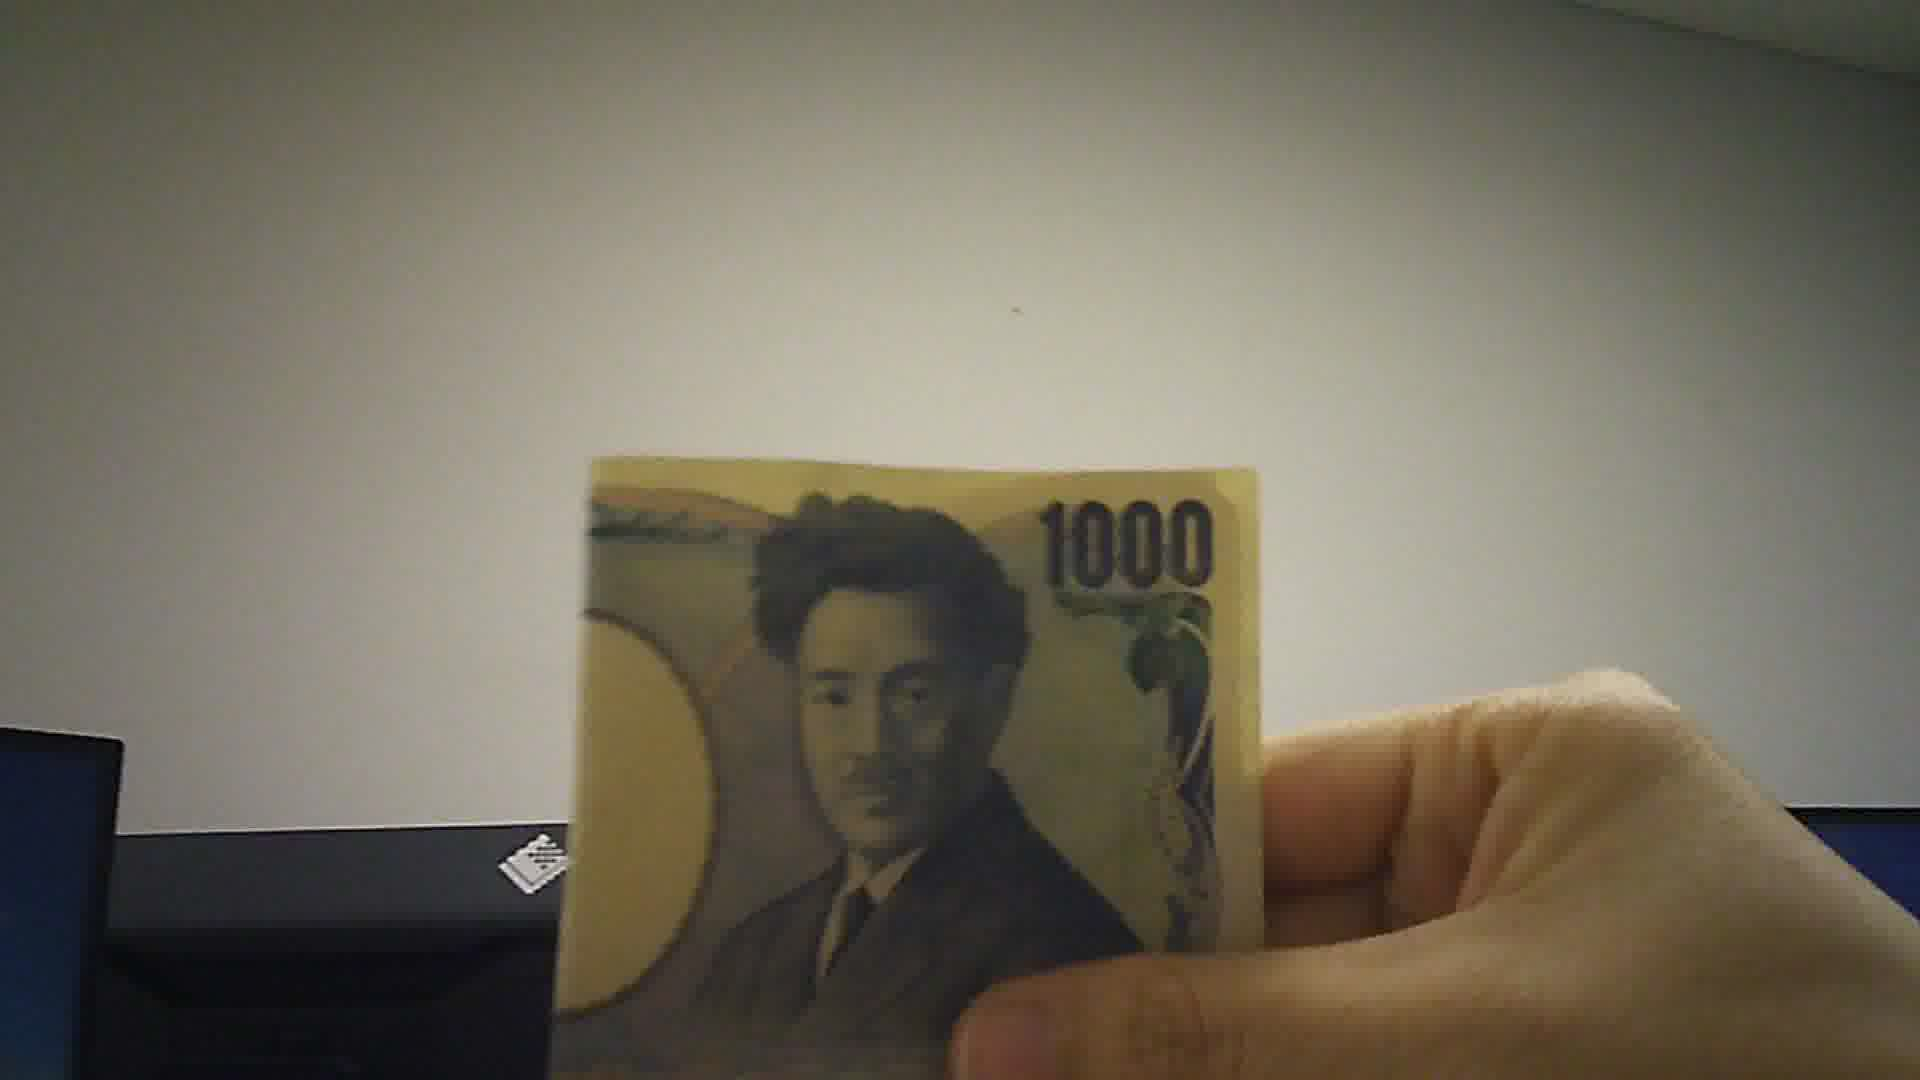1,000 Yen: (574, 456, 1269, 1079)
